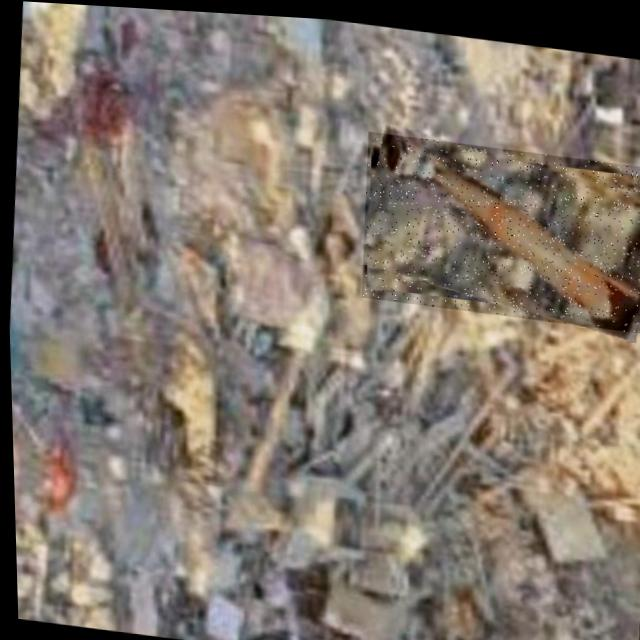Person in Rubble: (355, 125, 640, 326)
